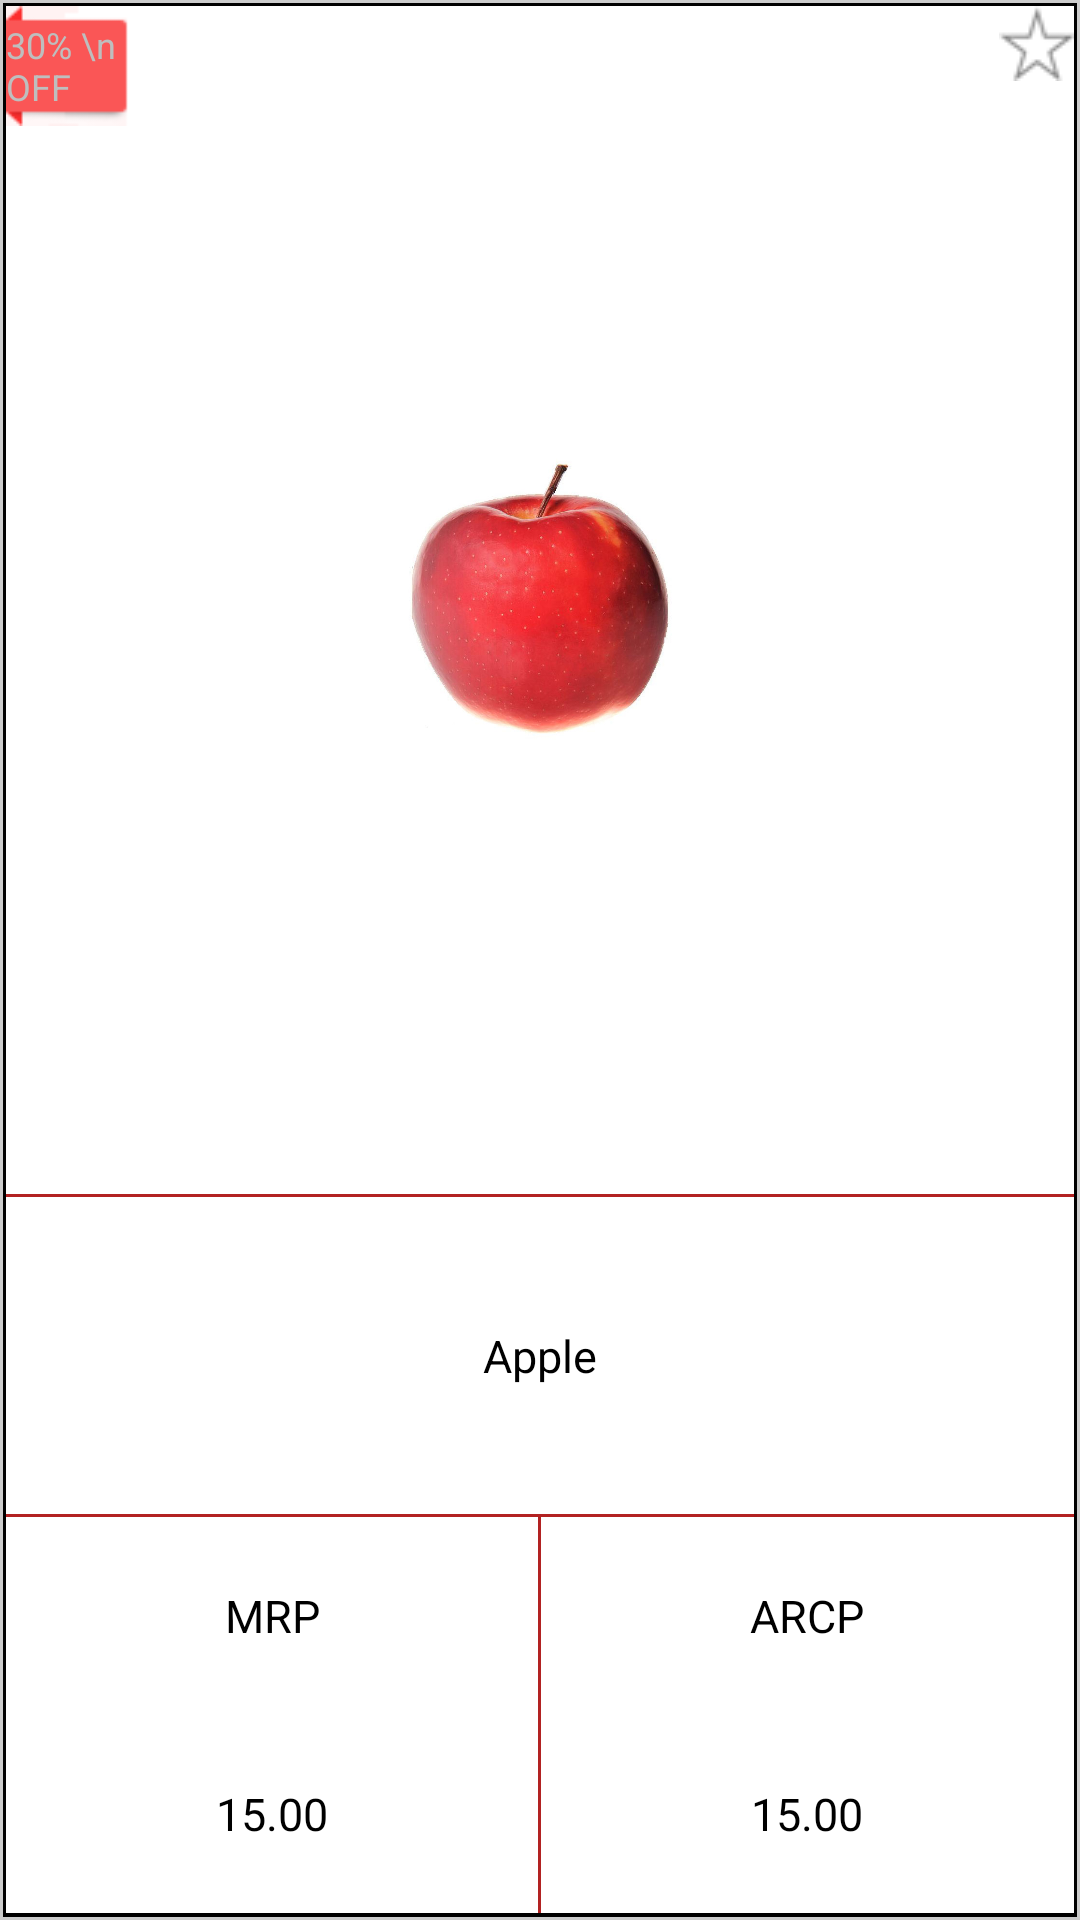

Icon click points for this 1080 x 1920 phone screenshot, format [x,y]:
apple: [540,598]
